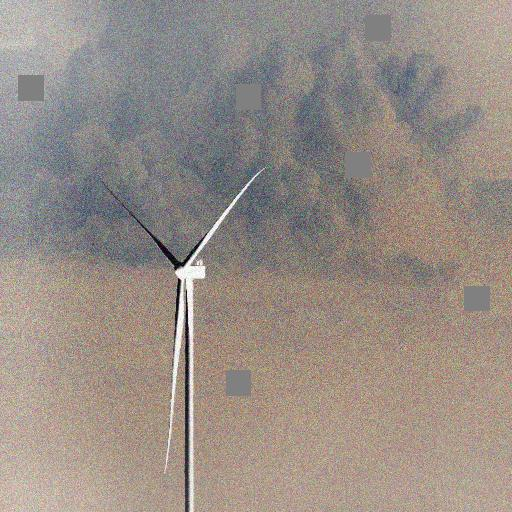wind turbine: (100, 167, 273, 504)
